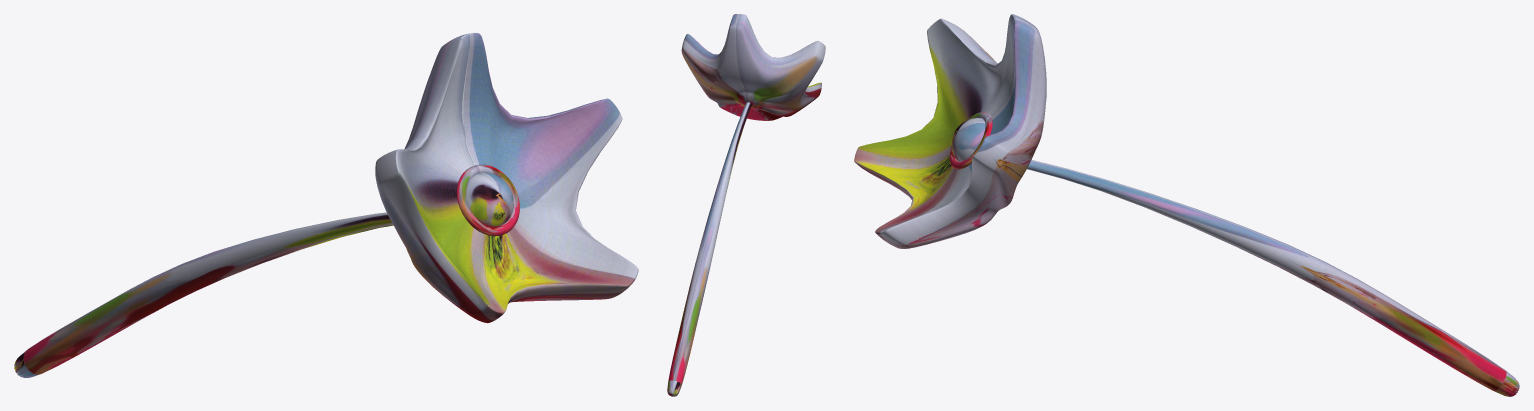
File: stemflower.003.gltf
3 renders of one model, left to right at view 1: azimuth 30°, elevation 25°; view 2: azimuth 150°, elevation 25°; view 3: azimuth 270°, elevation 25°, orthographic. The views are drawn at different scales.
Visible parts, largest first — view 1: stemflower.003; view 2: stemflower.003; view 3: stemflower.003.
Boxes of the visible parts, left/top/right/bottom form: stemflower.003: left=14, top=32, right=638, bottom=377; stemflower.003: left=667, top=14, right=825, bottom=396; stemflower.003: left=854, top=14, right=1519, bottom=396.
Size of the model in its own units: 20.71 by 34.64 by 47.09.
1 material, 1 textured.
